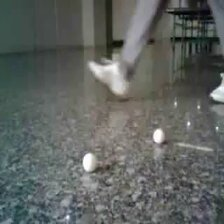w: (82, 152, 98, 171), (152, 128, 164, 144)
